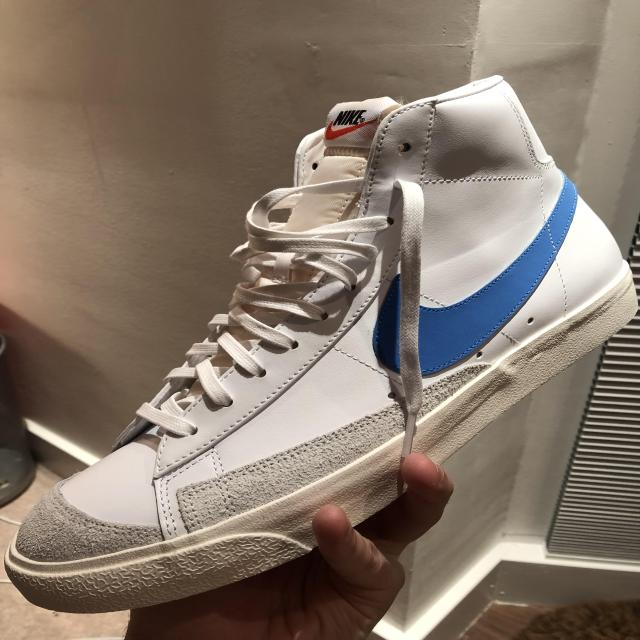shoe: (3, 68, 640, 618)
